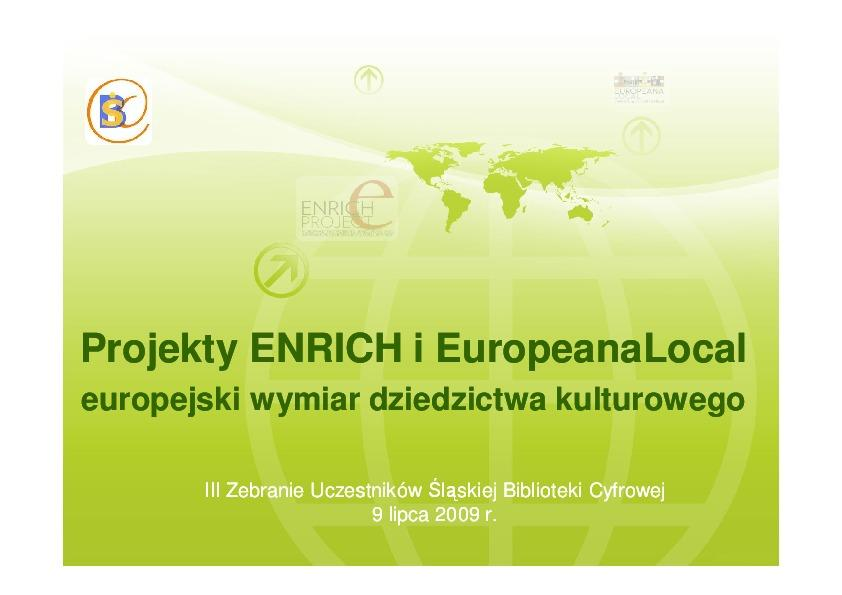title: (68, 313, 769, 443)
